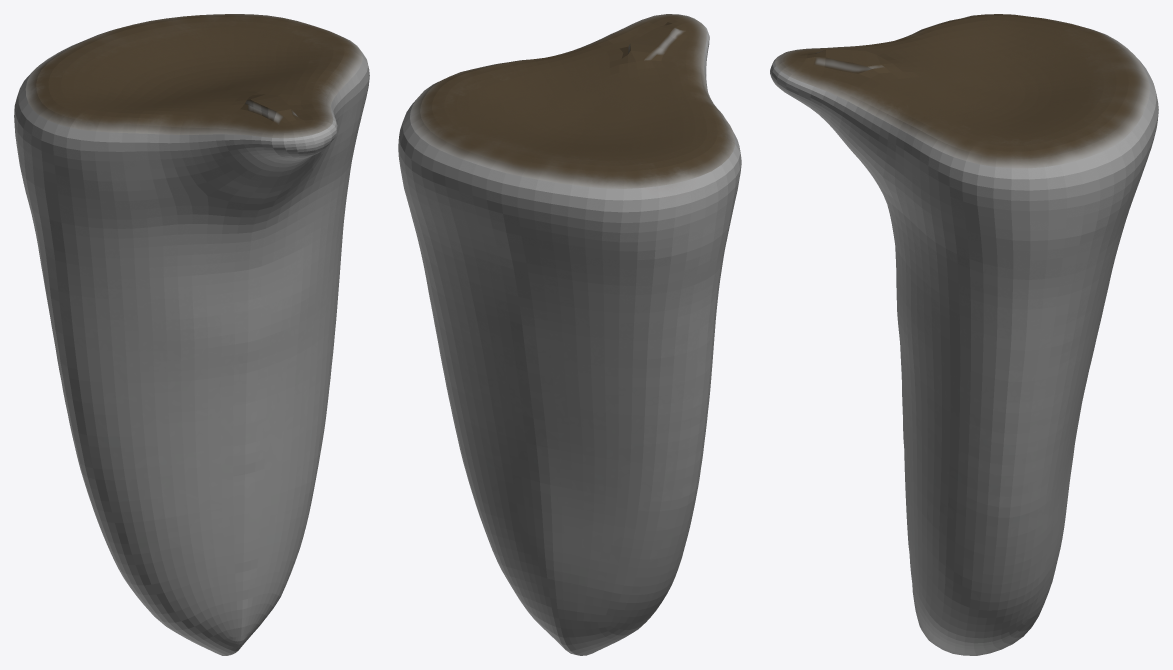
Rendered from Cliff.glb.
3 renders of one model, left to right at view 1: azimuth 30°, elevation 25°; view 2: azimuth 150°, elevation 25°; view 3: azimuth 270°, elevation 25°, orthographic. The views are drawn at different scales.
Visible parts, largest first — view 1: Cliff; view 2: Cliff; view 3: Cliff.
Part boxes in pixels (x1,y1,x2,y2): Cliff: [14, 14, 369, 655]; Cliff: [398, 14, 741, 655]; Cliff: [770, 14, 1158, 655].
Size of the model in its own units: 4.15 by 7.26 by 4.27.
Materials: 1 (1 with a texture image).
